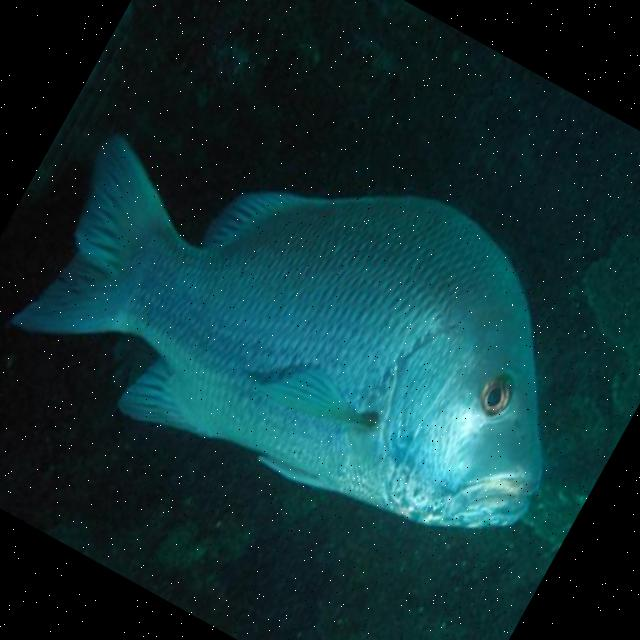ikan: (0, 39, 640, 610)
